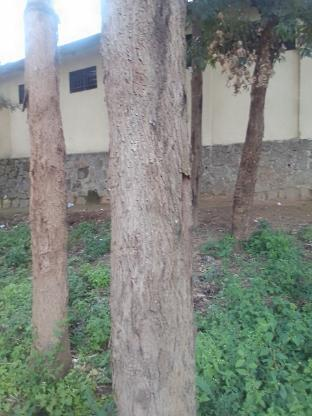tree: (88, 0, 214, 412), (16, 0, 79, 369)
